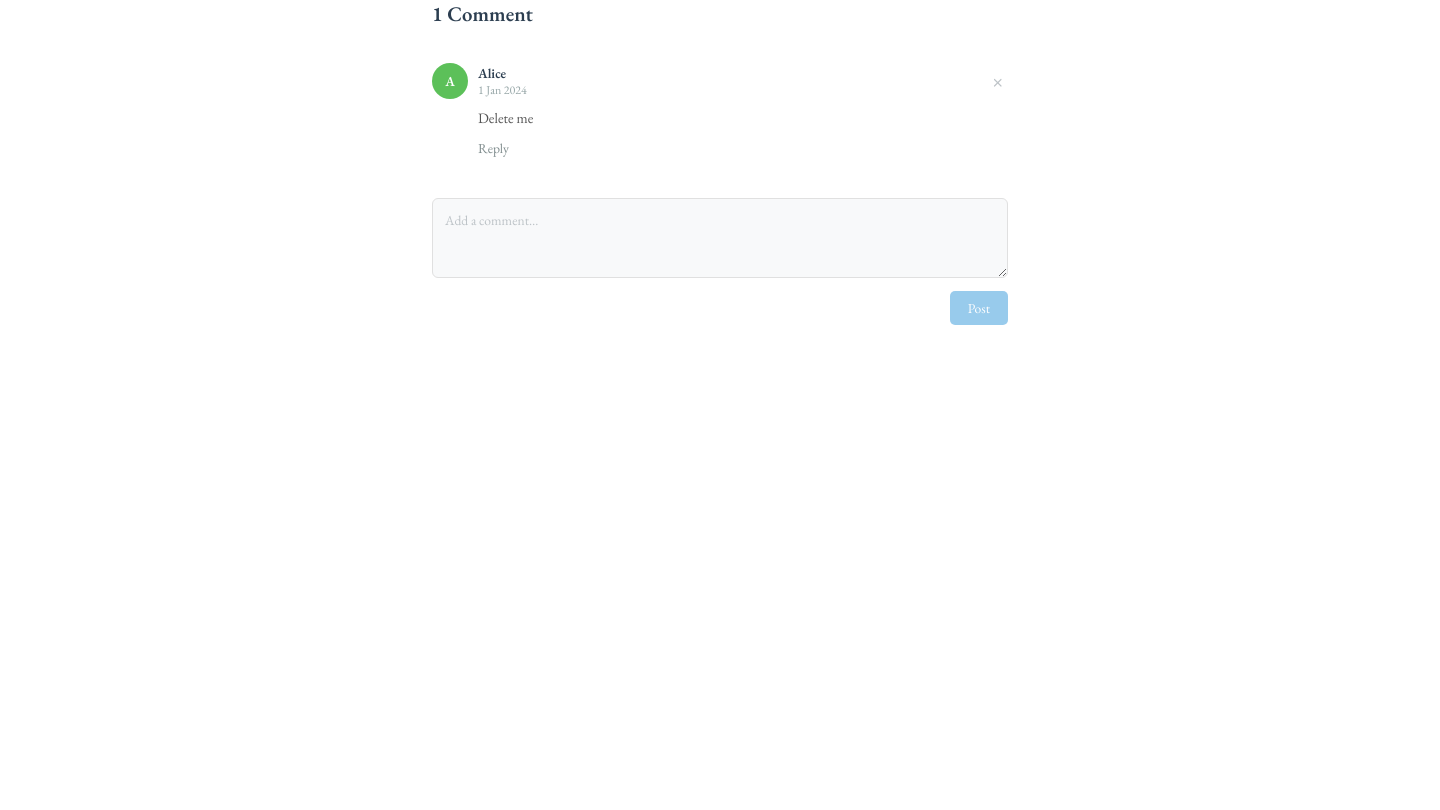
Test: deleting a comment › clicking delete button shows confirmation modal
Check: the text "Delete me" is shown, box [478,108,533,127]
Click the button named "delete comment". click: (998, 81)
box: [988,71,1008,91]
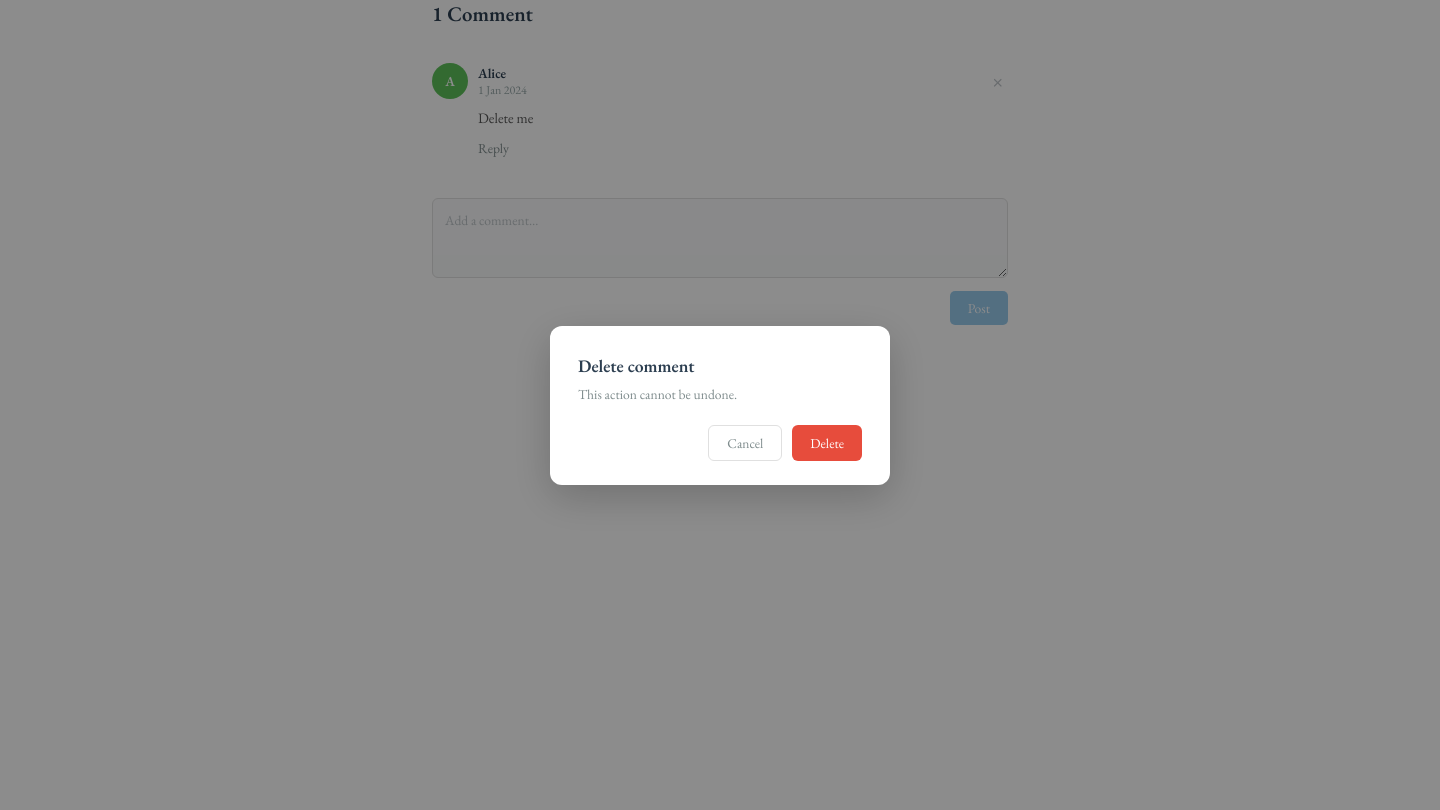
Check: the dialog is shown
Check: the heading "Delete comment" is shown, box [578,354,695,376]
Check: the text "This action cannot be undone." is shown, box [578,384,737,402]
